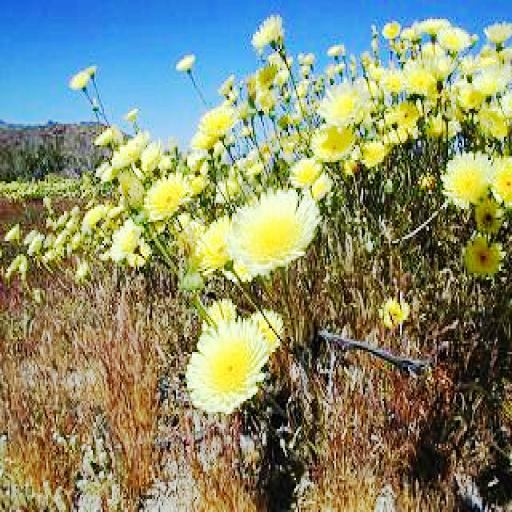dandelion: (226, 186, 318, 277), (187, 313, 269, 414), (442, 149, 492, 207), (194, 211, 240, 273), (316, 83, 374, 124), (142, 175, 190, 220), (310, 122, 360, 162), (198, 104, 238, 136), (434, 24, 474, 54), (250, 13, 282, 47), (472, 68, 510, 94)
